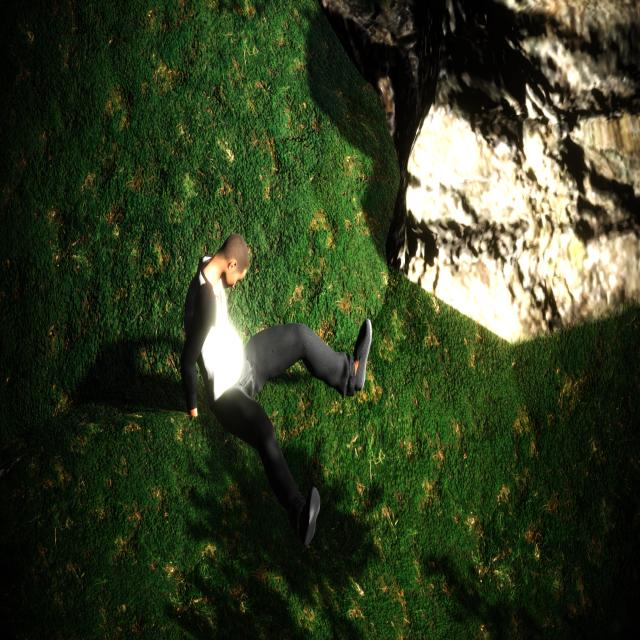Human: (179, 221, 377, 561)
